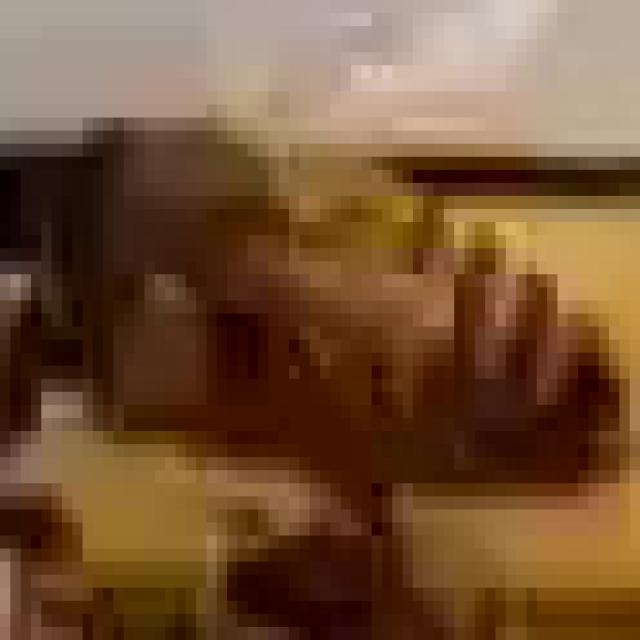honeybee: (49, 150, 621, 572)
